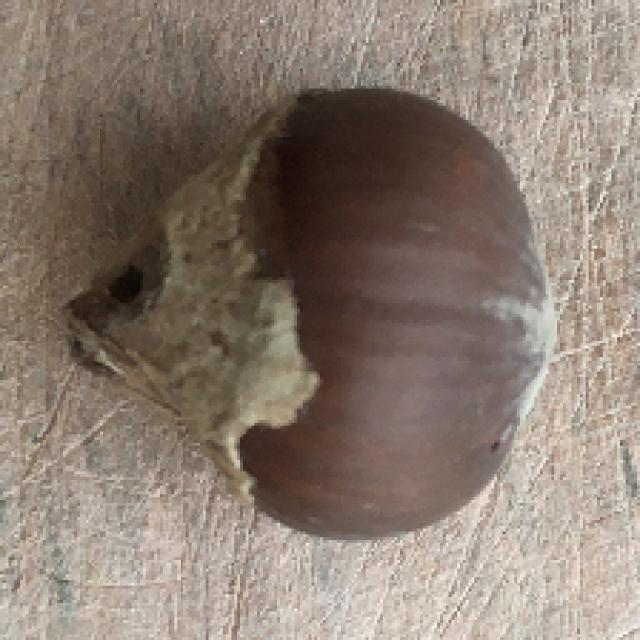damagedHazelnut: (70, 75, 562, 548)
